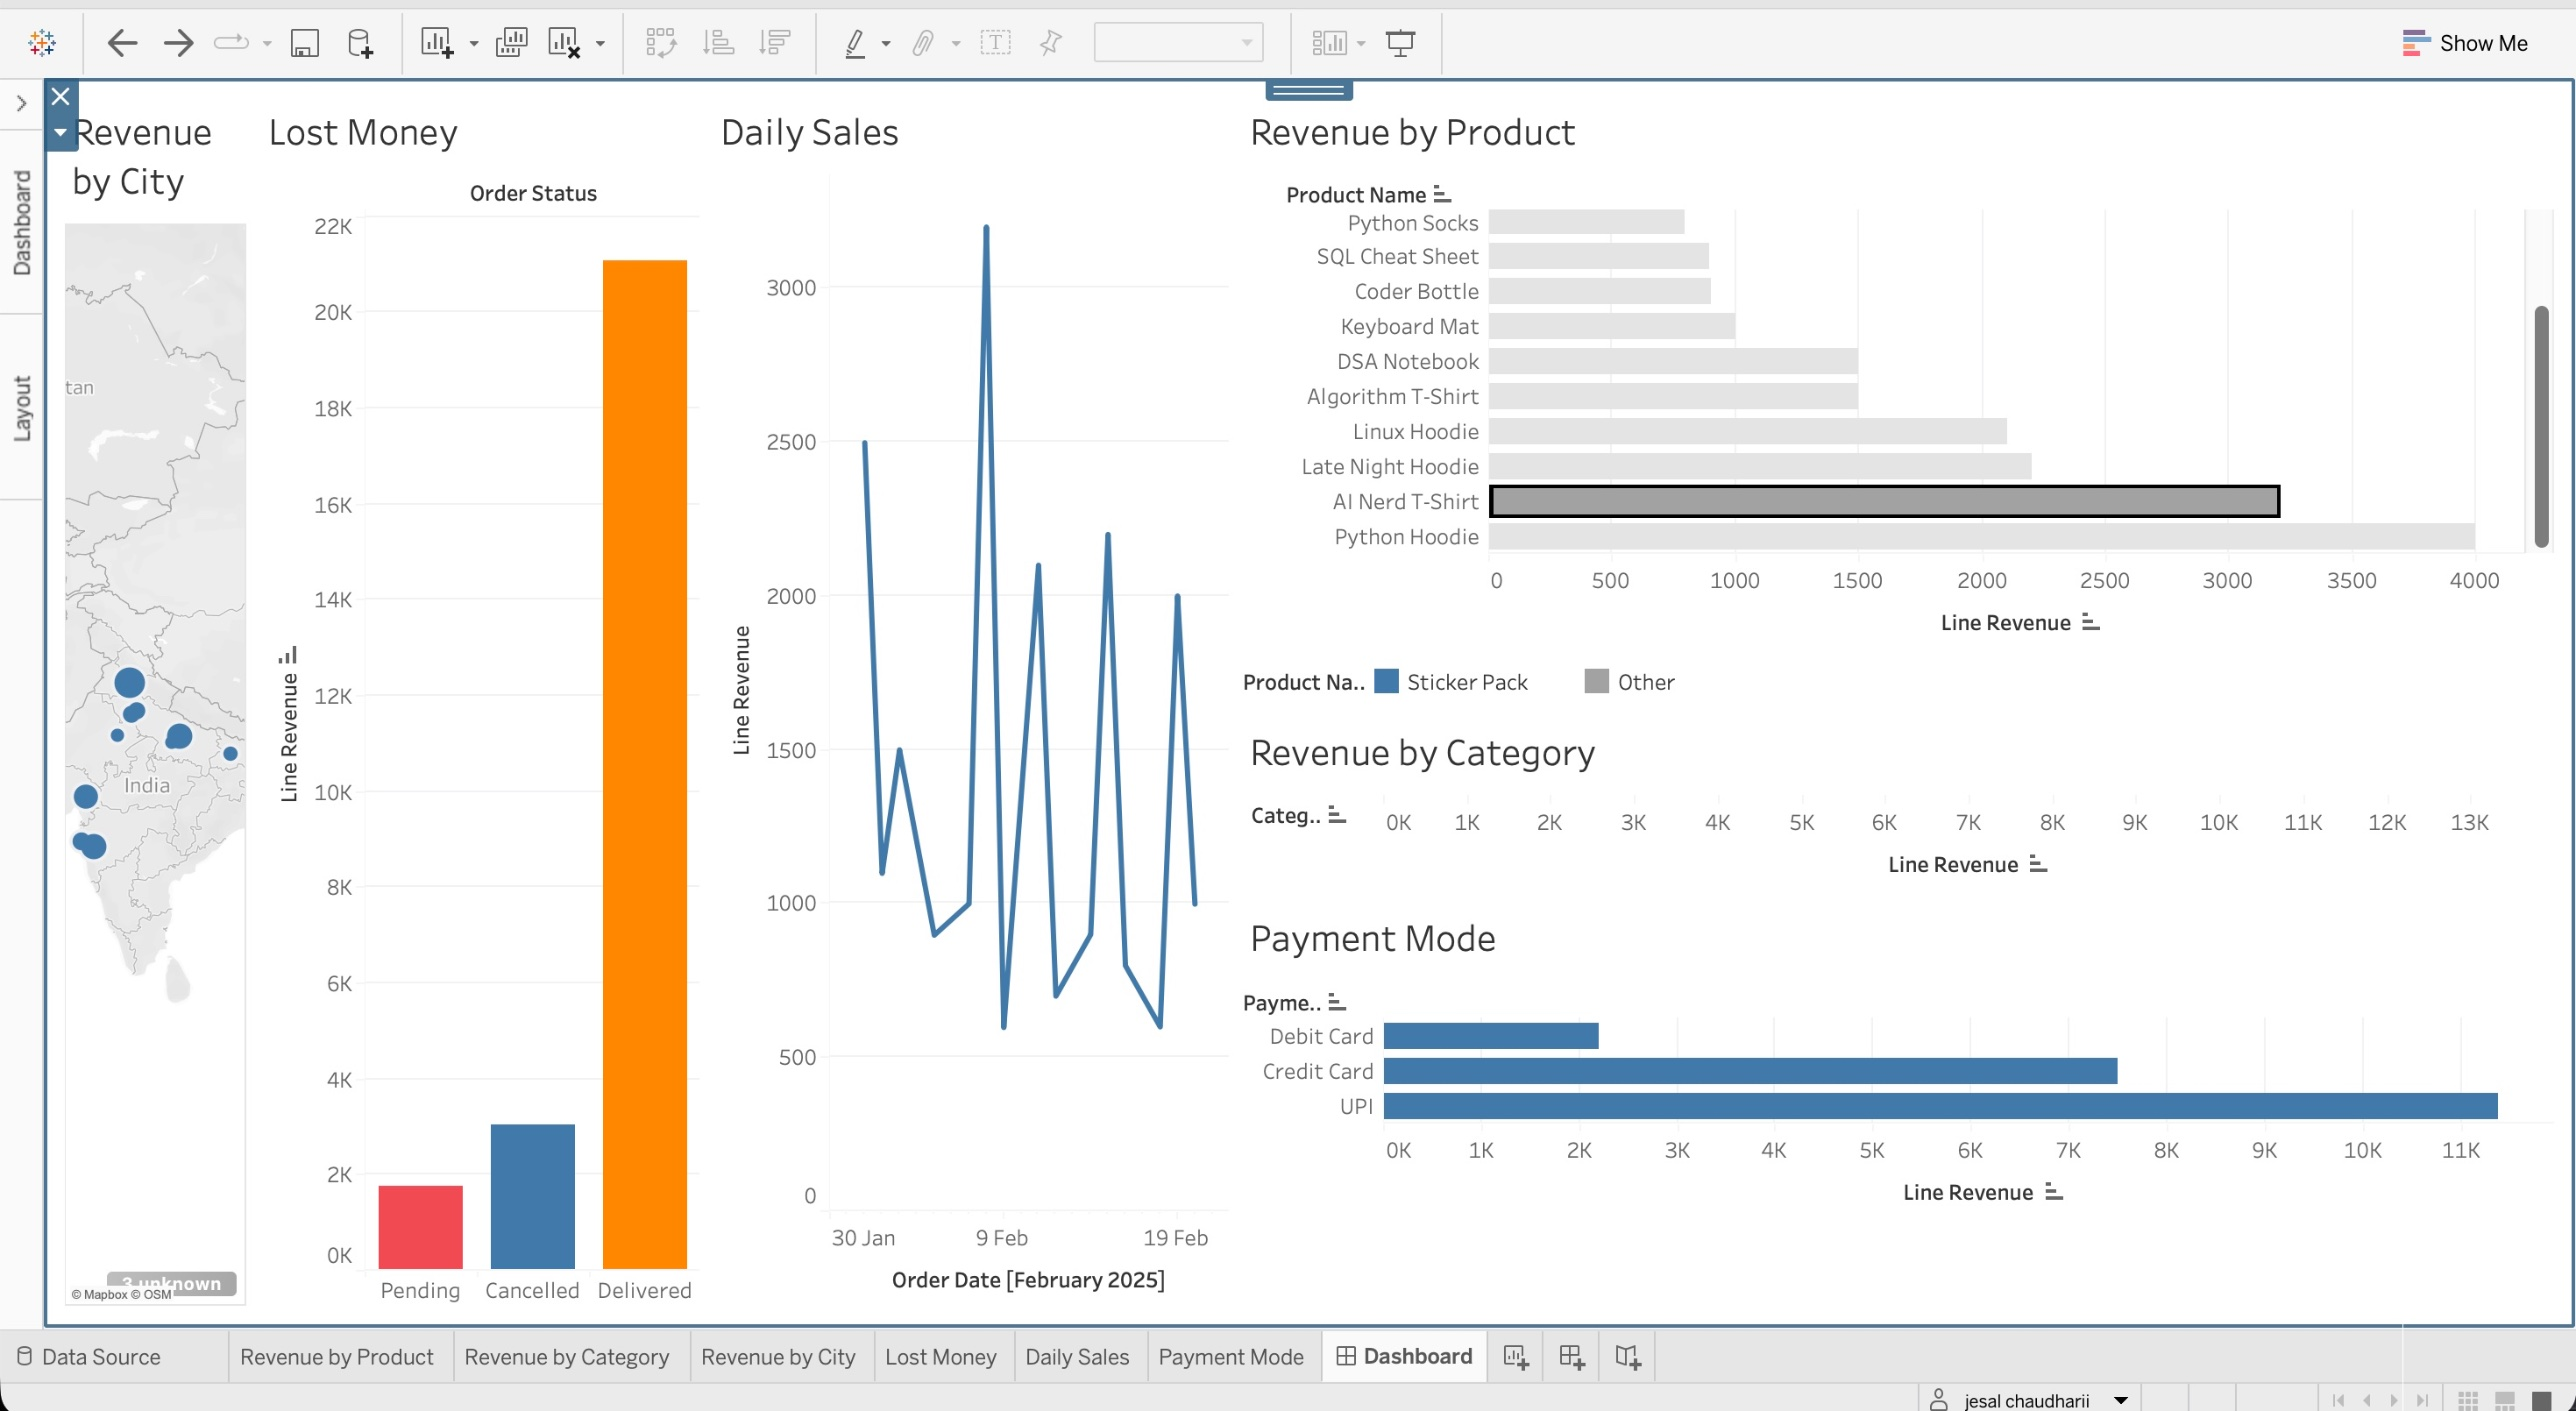

The dashboard page shown, as its layout file describes it:
{"tool":"tableau","page":{"name":"Dashboard 2","canvas":[1000,1000],"units":"permille","ordinal":0},"visuals":[{"type":"worksheet","title":"Revenue by City","mark":"Automatic","box":[6.4,11.5,63.1,977.1]},{"type":"worksheet","title":"Lost Money","mark":"Automatic","rows":["line_revenue"],"cols":["order_status"],"box":[69.5,11.5,146,977.1]},{"type":"worksheet","title":"Daily Sales","mark":"Automatic","rows":["line_revenue"],"cols":["order_date"],"box":[215.5,11.5,170.3,977.1]},{"type":"worksheet","title":"Revenue by Product","mark":"Automatic","rows":["product_name"],"cols":["line_revenue"],"box":[385.9,11.5,607.7,461.3]},{"type":"legend","title":"Revenue by Product","param":"[federated.0e2oee31gexz0n1epswxj1983roe].[Product Name (group)]","box":[385.9,472.8,607.7,45.8]},{"type":"worksheet","title":"Revenue by Category","mark":"Automatic","rows":["category"],"cols":["line_revenue"],"box":[385.9,518.6,607.7,130.4]},{"type":"worksheet","title":"Payment Mode","mark":"Automatic","rows":["payment_mode"],"cols":["line_revenue"],"box":[385.9,649,607.7,339.5]}]}

Visuals, with their boxes on the dashboard's canvas, which has no fixed pixel size, in thousandths of its width and height (x1, y1, x2, y2). These are canvas units, not pixel positions in the 2576x1411 screenshot, which may show the page scaled, cropped or inside an application window:
"Revenue by City" worksheet: bbox=[6, 12, 70, 989]
"Lost Money" worksheet: bbox=[70, 12, 216, 989]
"Daily Sales" worksheet: bbox=[216, 12, 386, 989]
"Revenue by Product" worksheet: bbox=[386, 12, 994, 473]
"Revenue by Product" legend: bbox=[386, 473, 994, 519]
"Revenue by Category" worksheet: bbox=[386, 519, 994, 649]
"Payment Mode" worksheet: bbox=[386, 649, 994, 988]
